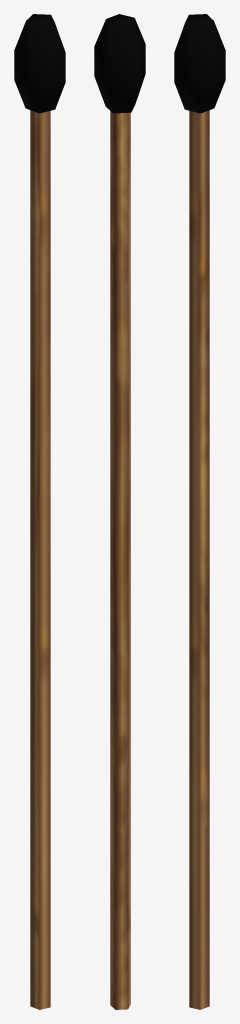
Rendered from city_torch.dae.
3 views of the same model, side by side, from view 1: azimuth 30°, elevation 25°; view 2: azimuth 150°, elevation 25°; view 3: azimuth 330°, elevation 25° (orthographic).
Visible parts, largest first — view 1: CityTorch; view 2: CityTorch; view 3: CityTorch.
Boxes of the visible parts, bbox=[...] form: CityTorch: bbox=[14, 14, 65, 1009]; CityTorch: bbox=[94, 14, 145, 1009]; CityTorch: bbox=[174, 14, 225, 1009].
Bounding box in the file's own units: 0.6309 × 0.6 × 13.24.
